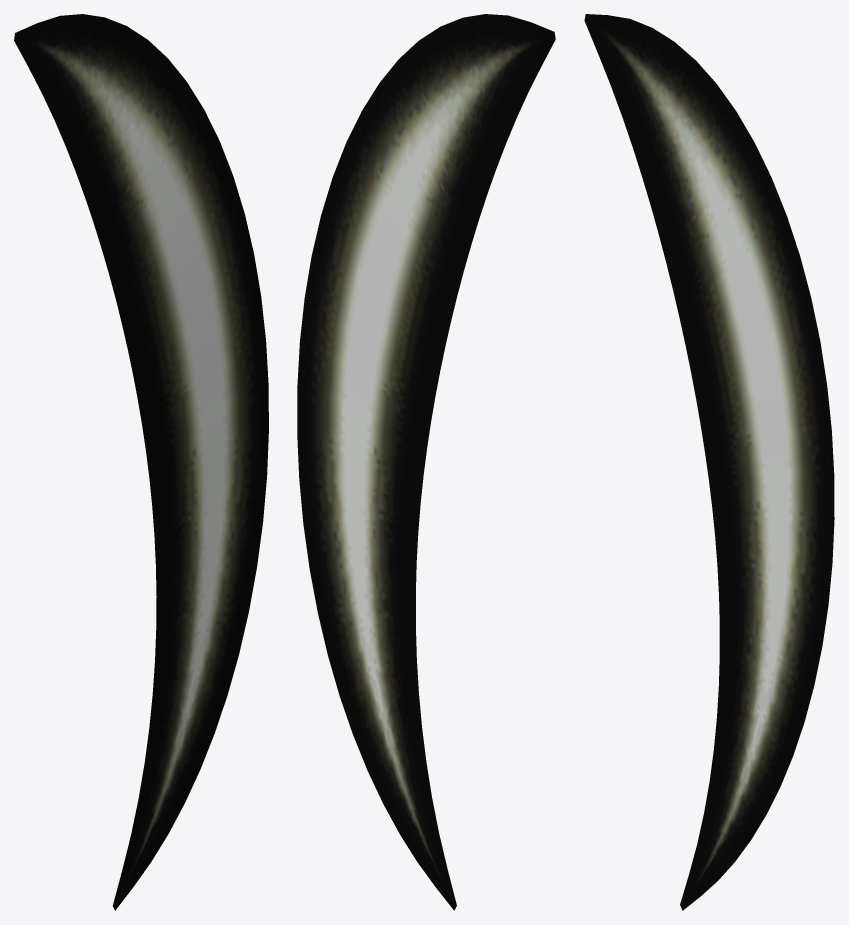
File: bengji01.FBX
3 views of the same model, side by side, from view 1: azimuth 30°, elevation 25°; view 2: azimuth 150°, elevation 25°; view 3: azimuth 330°, elevation 25° (orthographic). The views are drawn at different scales.
Visible parts, largest first — view 1: Plane002; view 2: Plane002; view 3: Plane002.
Boxes of the visible parts, x1,y1,x2,y2 form: Plane002: (14,14,268,910); Plane002: (297,14,555,910); Plane002: (584,14,834,910).
Size of the model in its own units: 45.72 by 155 by 1.13.
